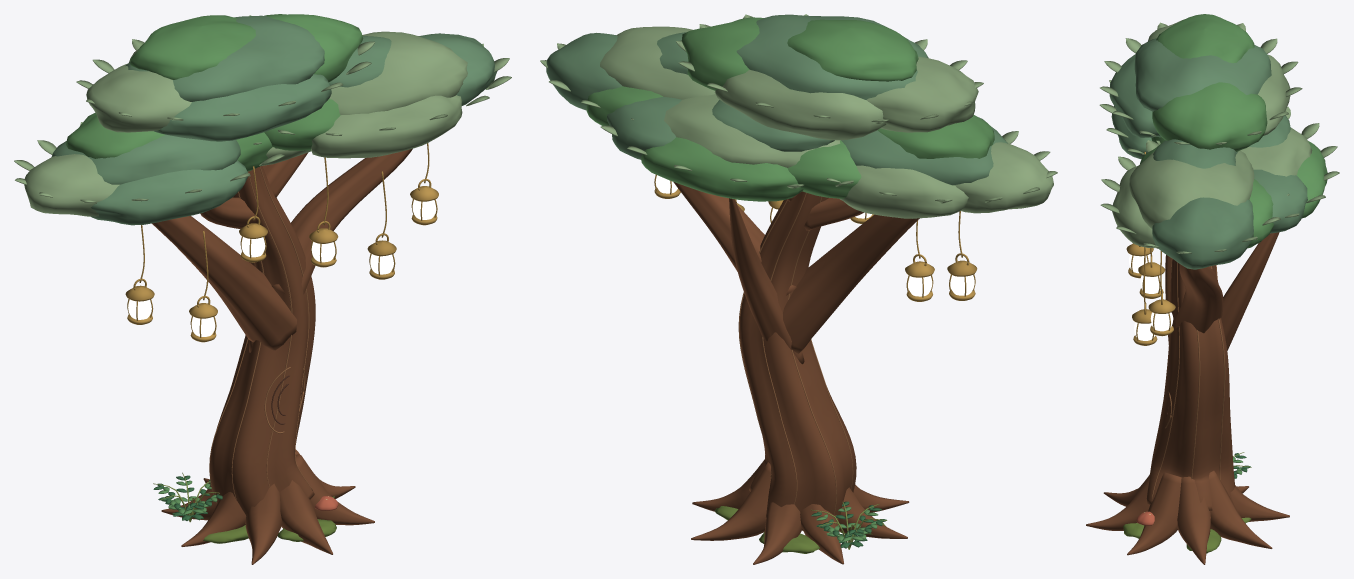
The model's file is lantern-tree.glb.
3 views of the same model, side by side, from view 1: azimuth 30°, elevation 25°; view 2: azimuth 150°, elevation 25°; view 3: azimuth 270°, elevation 25° (orthographic). The views are drawn at different scales.
Parts seen in each view (by area): view 1: lantern-tree_PaintedSculpture; view 2: lantern-tree_PaintedSculpture; view 3: lantern-tree_PaintedSculpture, Lantern_6.
Part boxes in pixels (box(x1,y1,x2,y2)): lantern-tree_PaintedSculpture: box(14, 14, 511, 564); lantern-tree_PaintedSculpture: box(540, 14, 1057, 564); lantern-tree_PaintedSculpture: box(1086, 14, 1339, 564); Lantern_6: box(1150, 312, 1173, 331).
Bounding box in the file's own units: 9.96 × 9.94 × 4.86.
